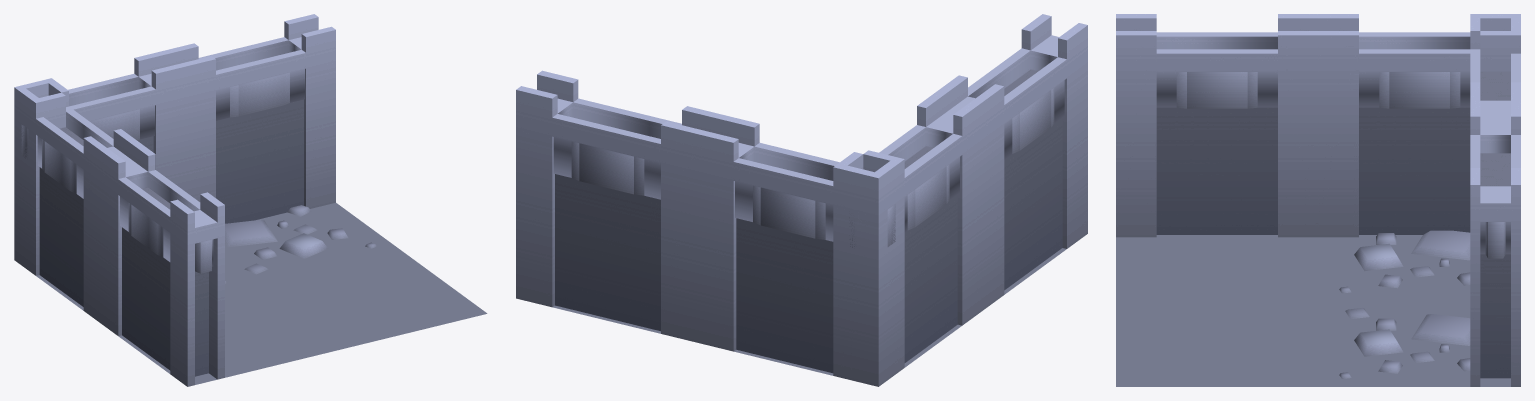
Rendered from Tile_9.glb.
The picture shows the model from 3 angles, left to right: view 1: azimuth 30°, elevation 25°; view 2: azimuth 150°, elevation 25°; view 3: azimuth 270°, elevation 25°; orthographic projection. The views are drawn at different scales.
Parts seen in each view (by area): view 1: Tile_9; view 2: Tile_9; view 3: Tile_9.
Boxes of the visible parts, x1,y1,x2,y2 form: Tile_9: (14, 14, 487, 386); Tile_9: (516, 14, 1087, 386); Tile_9: (1116, 14, 1520, 386).
Size of the model in its own units: 2 by 1.1 by 2.
Materials: 8 (8 with a texture image).
